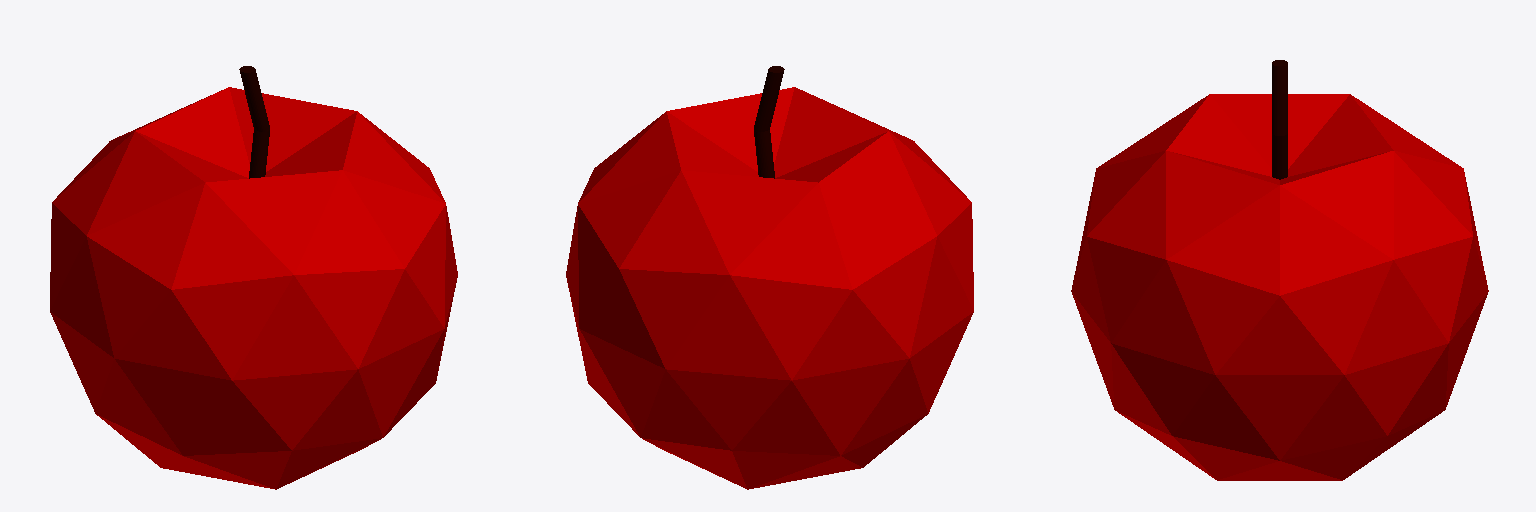
The model's file is LowPolyApple.obj.
3 views of the same model, side by side, from view 1: azimuth 30°, elevation 25°; view 2: azimuth 150°, elevation 25°; view 3: azimuth 270°, elevation 25° (orthographic).
Visible parts, largest first — view 1: Icosphere, Cylinder; view 2: Icosphere, Cylinder; view 3: Icosphere, Cylinder.
Part boxes in pixels (x1,y1,x2,y2): Icosphere: (50, 87, 457, 489); Cylinder: (239, 66, 269, 178); Icosphere: (566, 87, 973, 489); Cylinder: (754, 66, 784, 178); Icosphere: (1071, 94, 1488, 480); Cylinder: (1272, 60, 1287, 179).
Size of the model in its own units: 1.96 by 2.04 by 2.04.